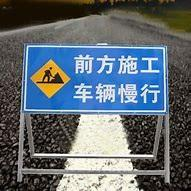sign: (25, 44, 166, 115)
